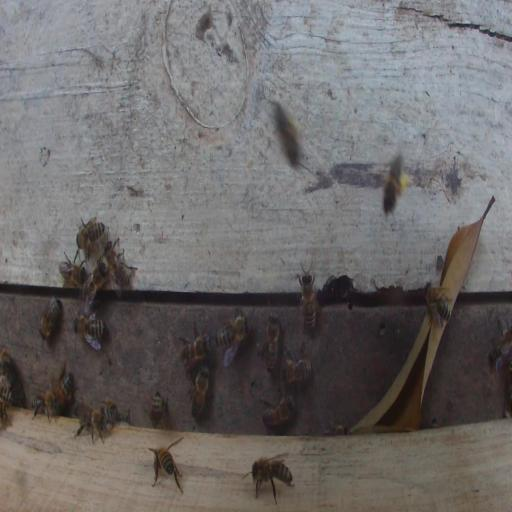nonpollenbee: (242, 455, 294, 504), (216, 313, 250, 368), (103, 240, 138, 289), (272, 101, 299, 164), (148, 446, 183, 493), (179, 321, 211, 369), (297, 260, 317, 331), (281, 344, 313, 387), (260, 313, 281, 375), (74, 406, 106, 445), (73, 312, 107, 348), (59, 249, 89, 287), (189, 365, 209, 421), (76, 217, 106, 254), (423, 282, 450, 320), (263, 396, 294, 429), (39, 296, 62, 340), (85, 261, 109, 303), (32, 389, 57, 422), (53, 371, 74, 409), (149, 390, 165, 428), (100, 398, 119, 425), (1, 384, 12, 429), (329, 418, 349, 435), (1, 345, 11, 375), (495, 353, 510, 371), (503, 362, 503, 363)
pollenbee: (383, 157, 407, 214)
